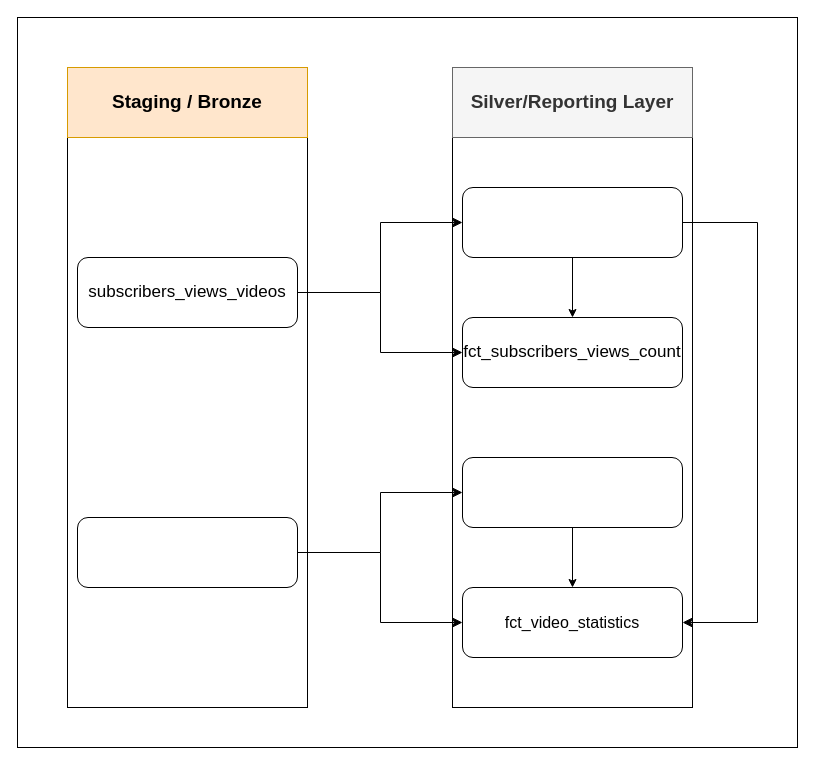
This 815x765 diagram has some shape labels left out. Here are the shapes that lost their labels. From the top down, the box of each, then its label:
(462, 186, 682, 258): dimChannels
(462, 456, 682, 528): dimVideos
(76, 516, 298, 588): video statistics
